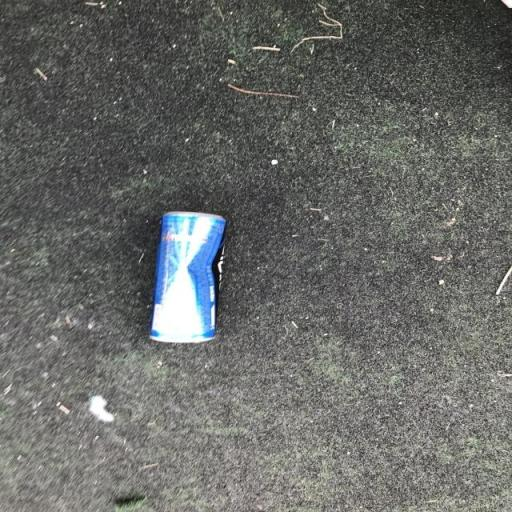metal: (142, 189, 245, 370)
